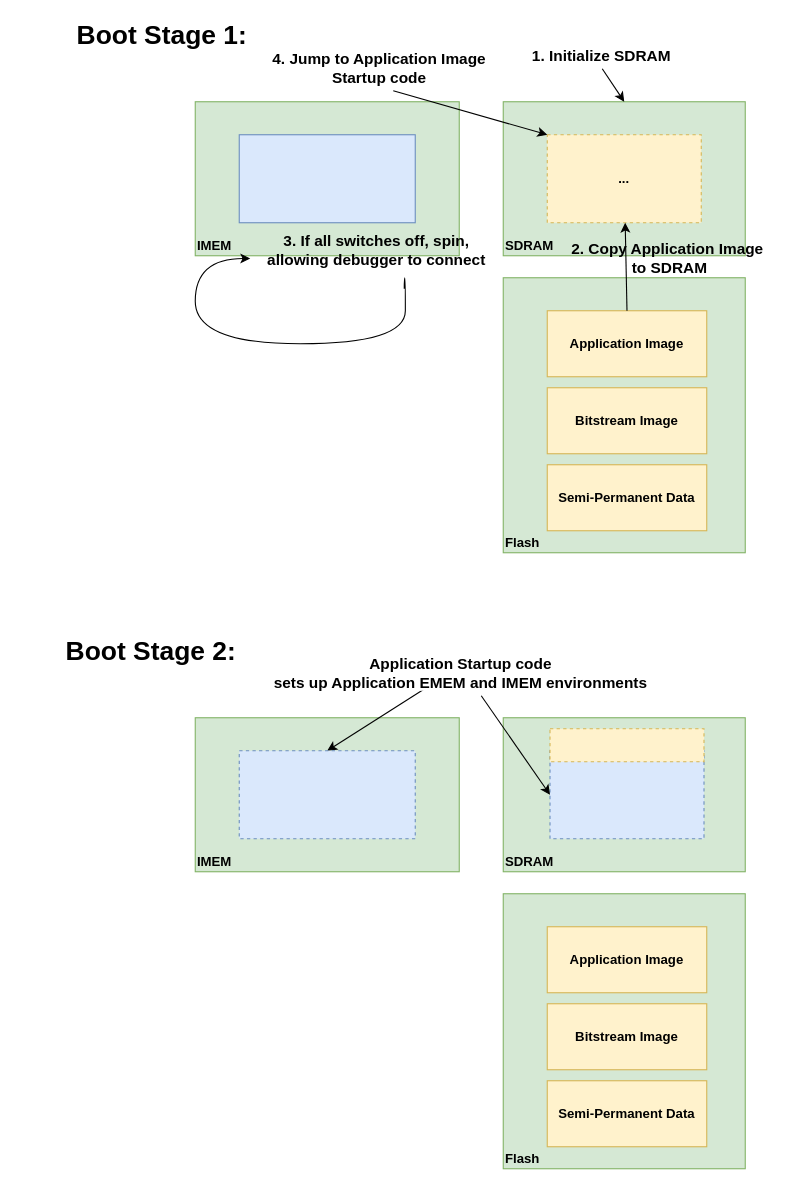
This 785x1188 diagram has some shape labels left out. Here are the shapes that lost their labels. From the top down, the box of each, then its label:
(238, 134, 415, 223): Stage 1 Bootloader Image
(549, 728, 704, 762): Application Startup Code
(238, 750, 415, 839): Application IMEM Env
(549, 750, 704, 839): Application EMEM Env
